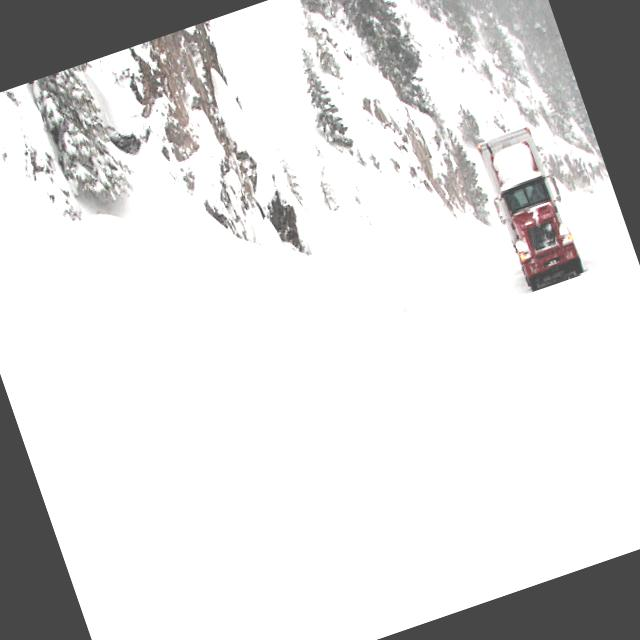Vehicle: (474, 120, 588, 292)
